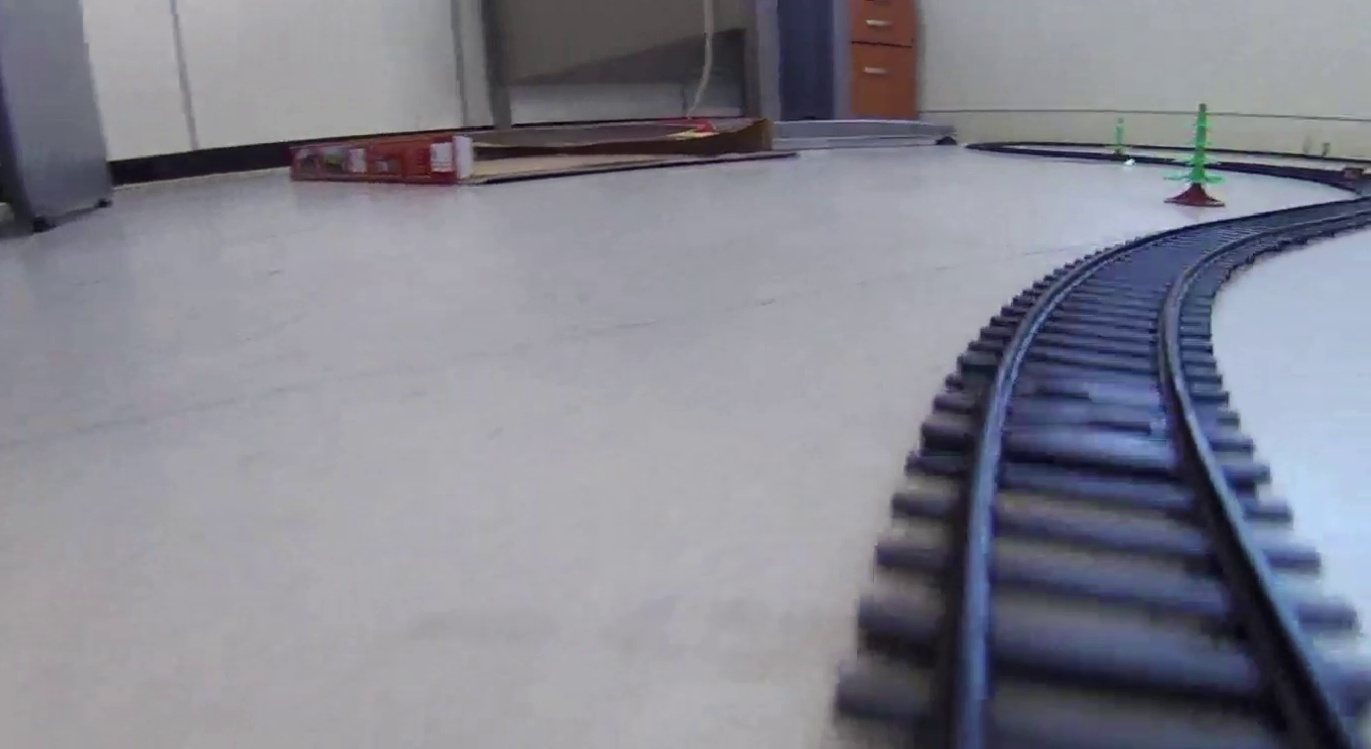tree: (1162, 99, 1224, 209)
